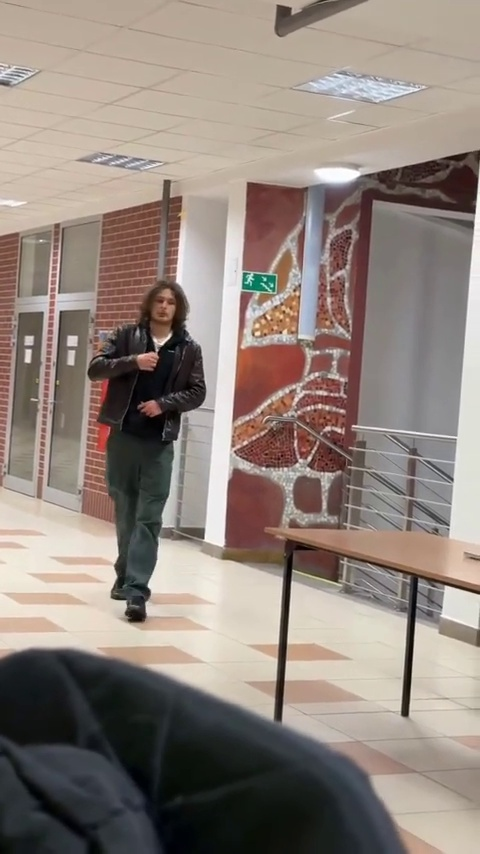no vest: (89, 280, 210, 621)
